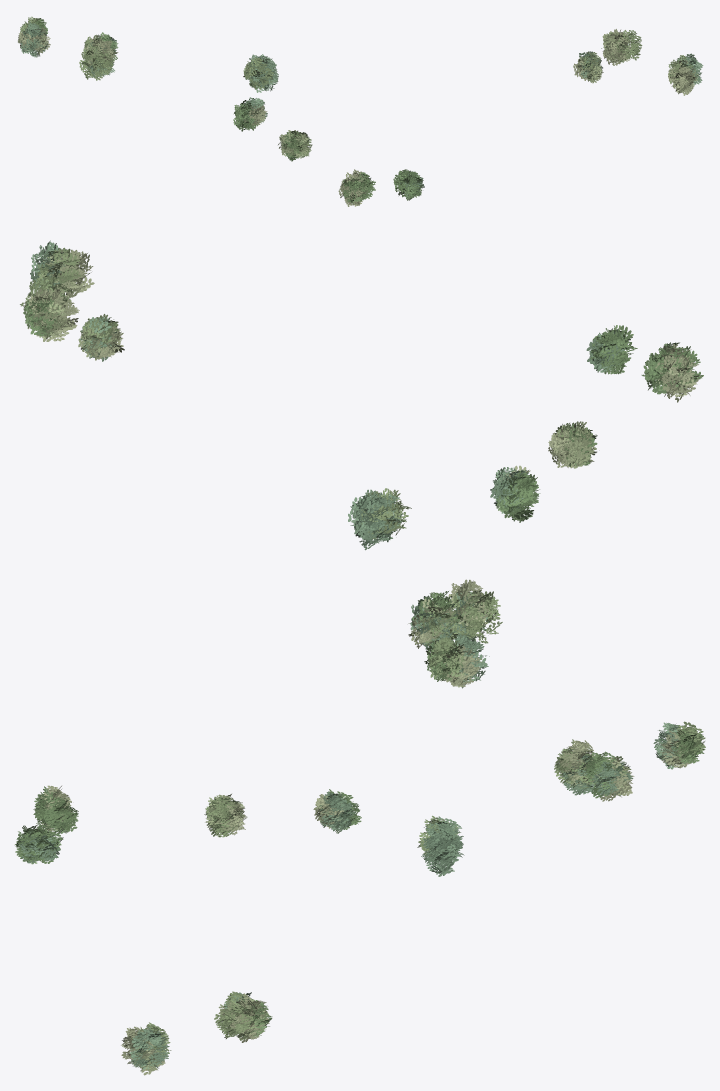
Rendered from campus-tree--4_-2-middle.glb.
3 renders of one model, top to bottom at view 1: azimuth 30°, elevation 25°; view 2: azimuth 150°, elevation 25°; view 3: azimuth 270°, elevation 25°, orthographic. The views are drawn at different scales.
Parts seen in each view (by area): view 1: Campus leaf canopy; view 2: Campus leaf canopy; view 3: Campus leaf canopy.
Part boxes in pixels (x1=…): Campus leaf canopy: x1=18, y1=16, x2=703, y2=206; Campus leaf canopy: x1=20, y1=240, x2=703, y2=688; Campus leaf canopy: x1=15, y1=721, x2=705, y2=1075.
Bounding box in the file's own units: 78.62 × 7.28 × 71.43.
Materials: 1 (1 with a texture image).
